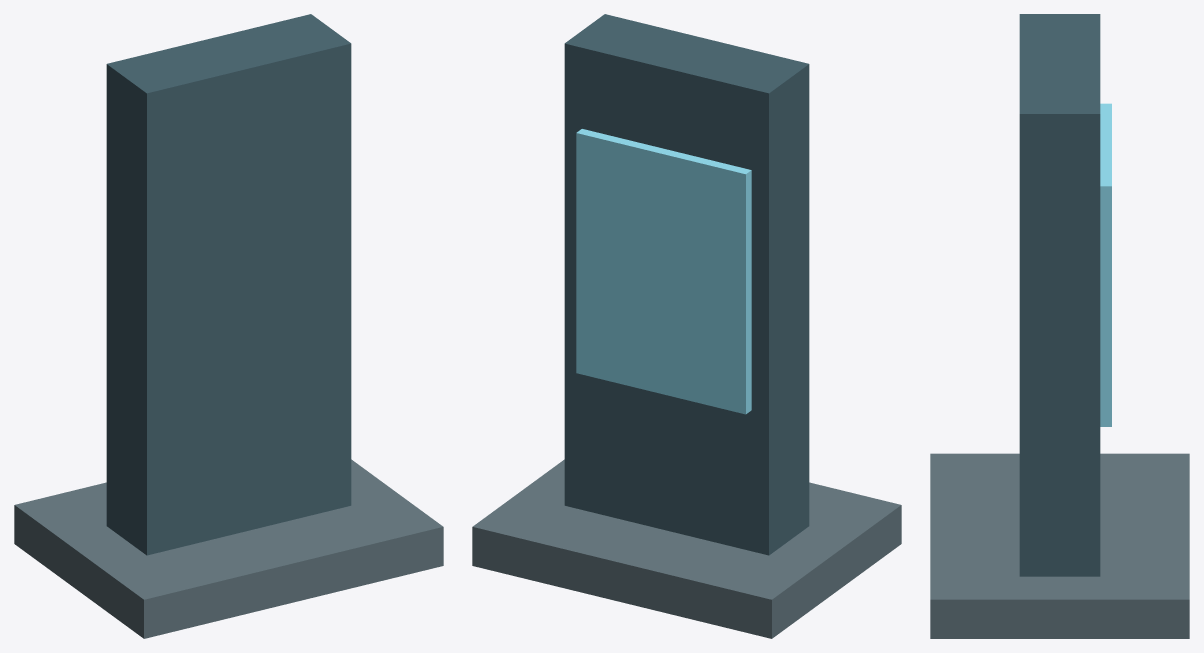
File: campus-smart-kiosk-lod2.glb
3 renders of one model, left to right at view 1: azimuth 30°, elevation 25°; view 2: azimuth 150°, elevation 25°; view 3: azimuth 270°, elevation 25°, orthographic.
Visible parts, largest first — view 1: body, base; view 2: body, screen, base; view 3: body, base, screen.
Boxes of the visible parts, left/top/right/bottom form: body: left=106, top=14, right=351, bottom=555; base: left=14, top=459, right=443, bottom=638; body: left=564, top=14, right=809, bottom=555; screen: left=576, top=129, right=751, bottom=414; base: left=472, top=459, right=901, bottom=638; body: left=1019, top=14, right=1100, bottom=576; base: left=930, top=453, right=1189, bottom=638; screen: left=1100, top=103, right=1111, bottom=426.
Size of the model in its own units: 1.2 by 1.92 by 0.9.
